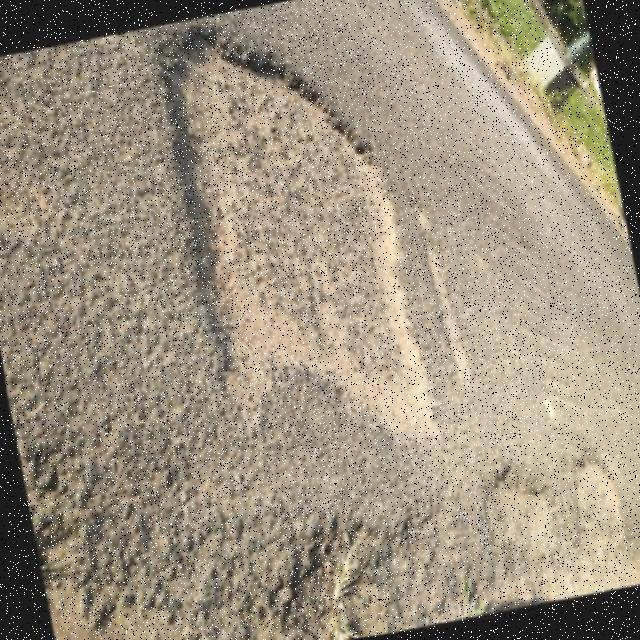Pothole: (157, 25, 433, 443), (272, 529, 412, 640), (486, 468, 557, 574), (571, 455, 627, 559)
